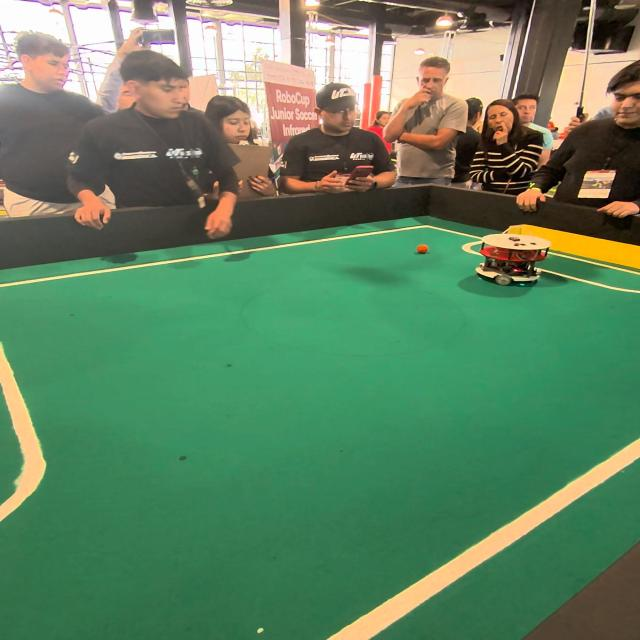Robot: (473, 222, 547, 292)
pelota: (416, 243, 429, 254)
